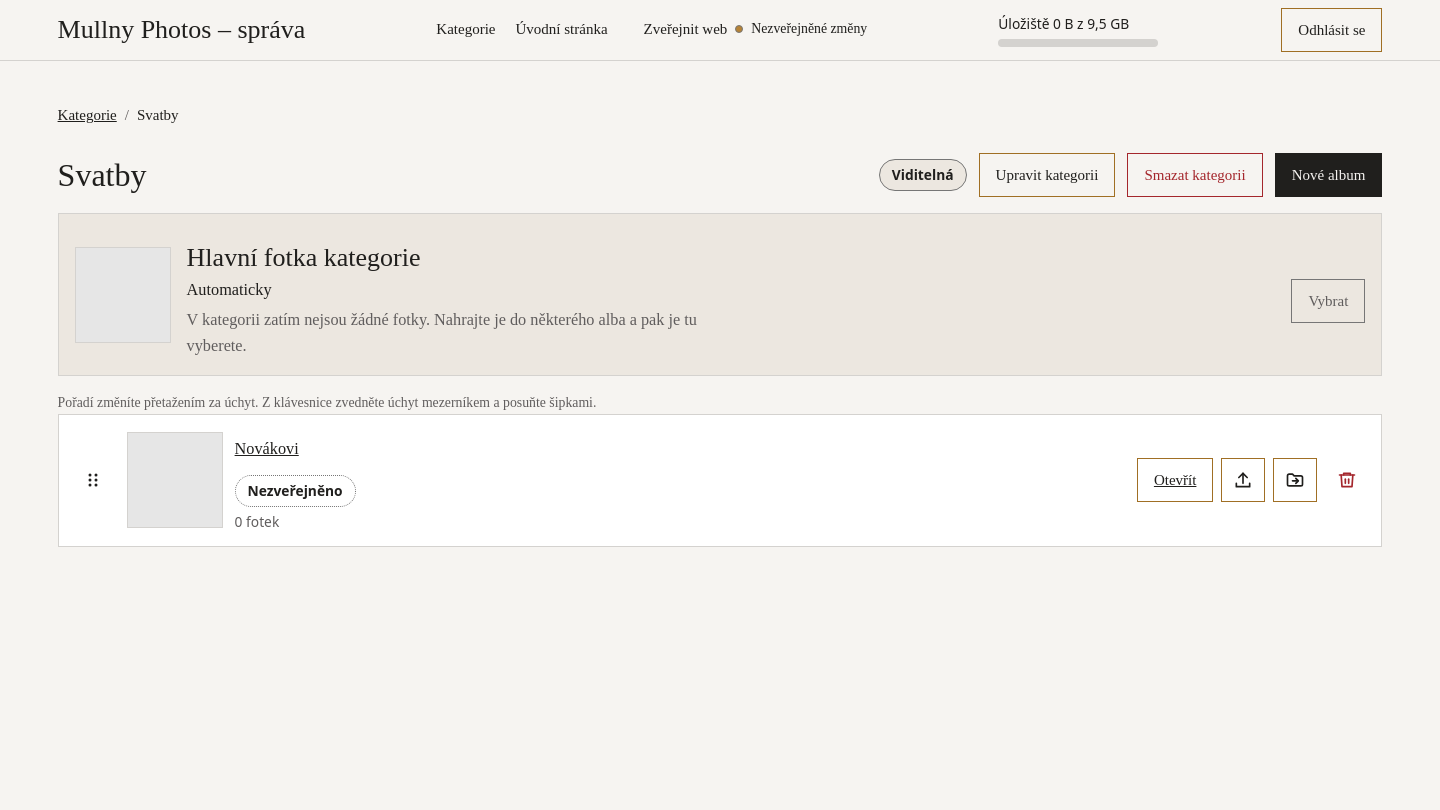
Test: new album › creates an unpublished album at the end and opens it as "Nezveřejněno" with the drop zone
Expected: the heading "Svatby" is shown, x1=58 y1=156 x2=146 y2=194
Expected: the link "Novákovi" is shown, x1=235 y1=439 x2=299 y2=458
Click the button "Nové album" at (1329, 175), box x1=1275 y1=153 x2=1382 y2=197
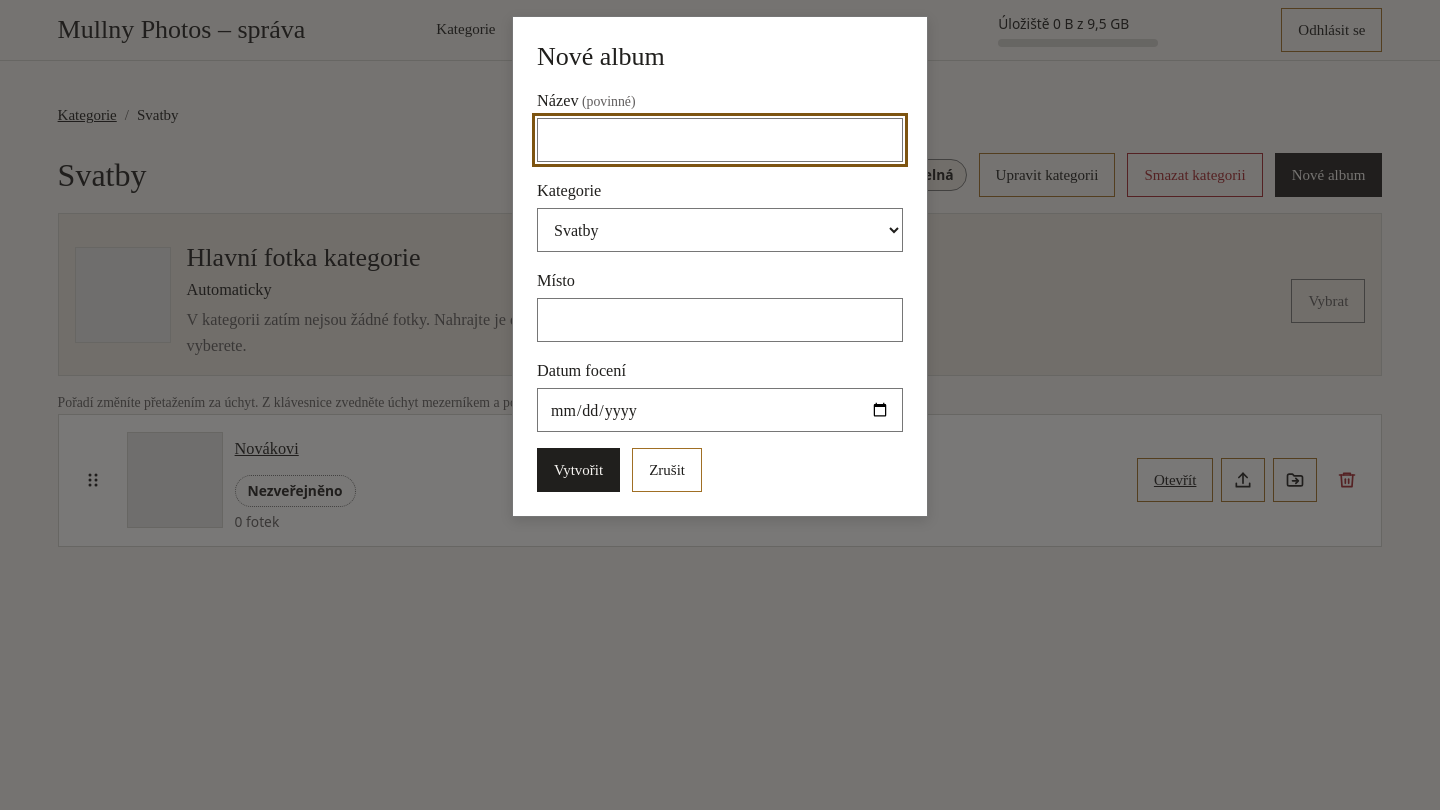
Now the dropdown labelled "Kategorie" shows "Svatby", box x1=537 y1=208 x2=903 y2=252
Type "Čermákovi a spol." into the field labelled "Název (povinné)" at (720, 140), box x1=537 y1=118 x2=903 y2=162
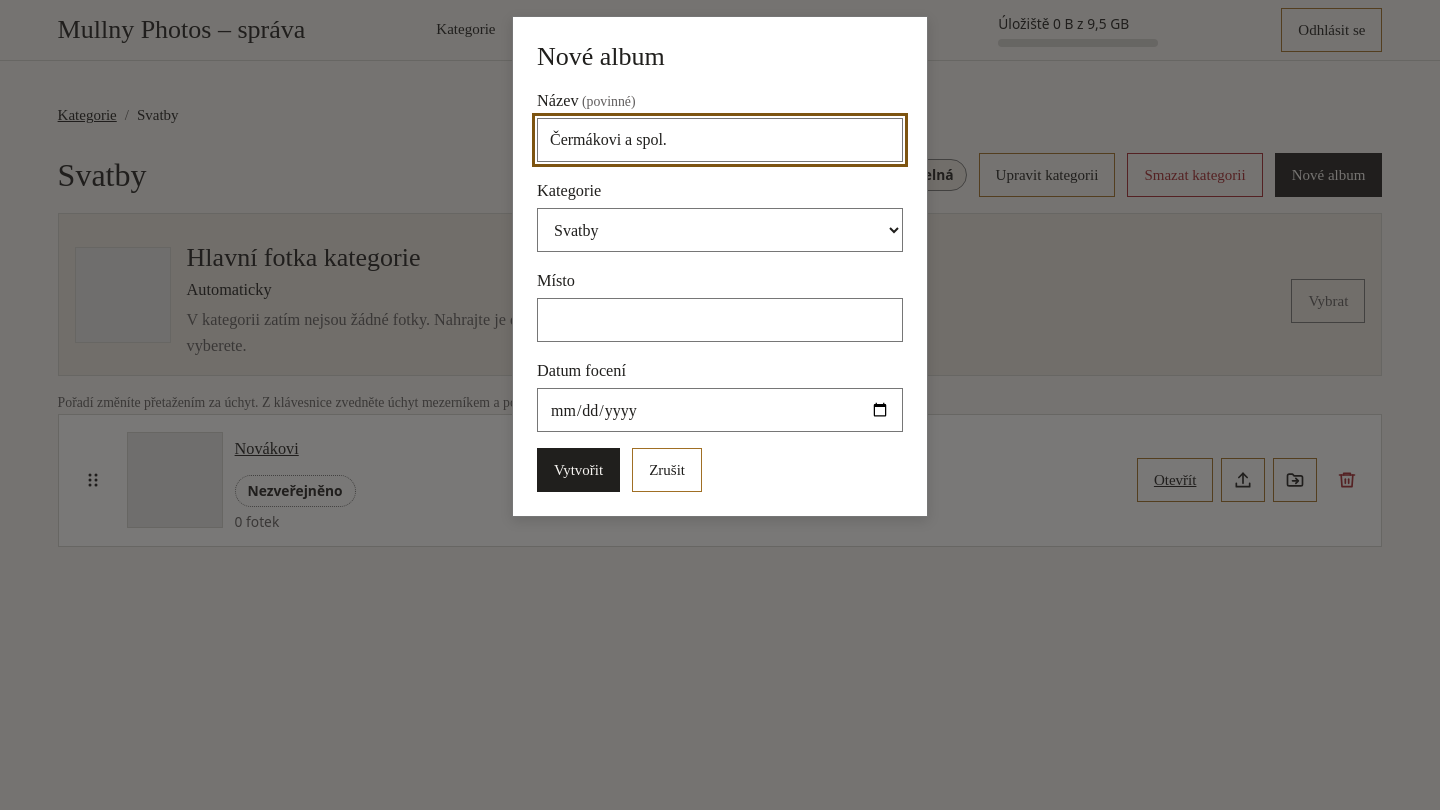
Type "Znojmo" into the field labelled "Místo" at (720, 320), box x1=537 y1=298 x2=903 y2=342
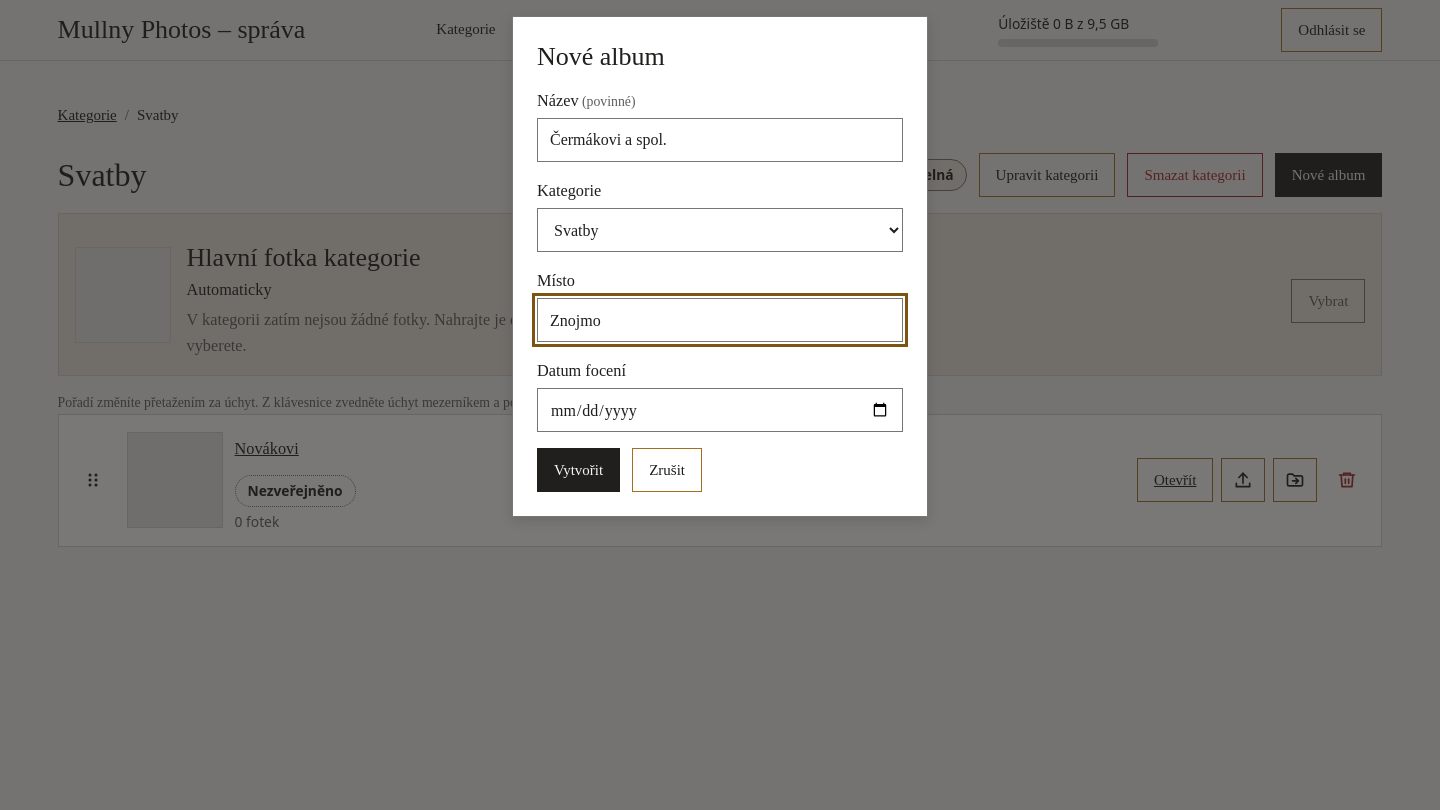
Type "2026-07-11" into the date field labelled "Datum focení" at (720, 410), box x1=537 y1=388 x2=903 y2=432
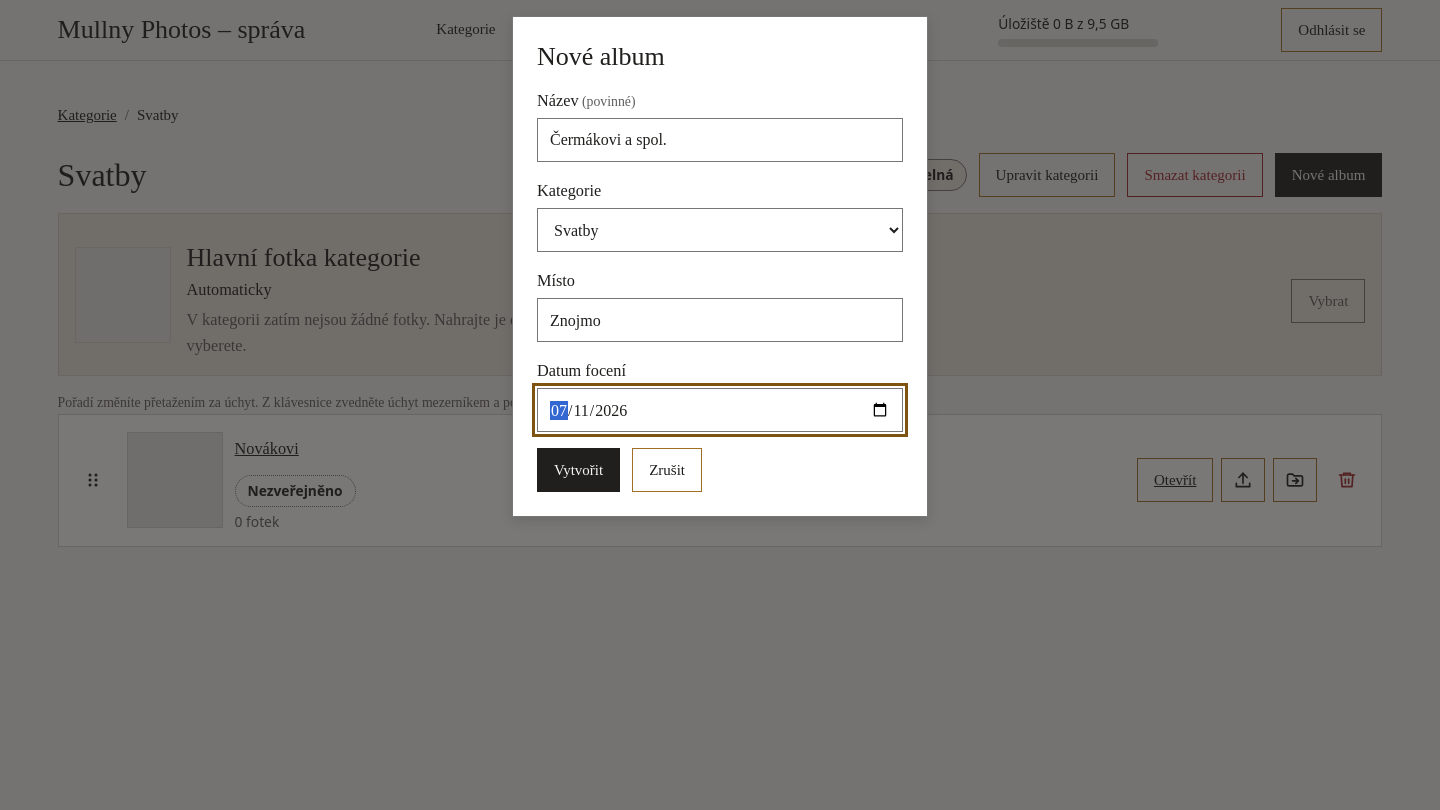
Click the button "Vytvořit" at (579, 470), box x1=537 y1=448 x2=620 y2=492
(page scrolled)
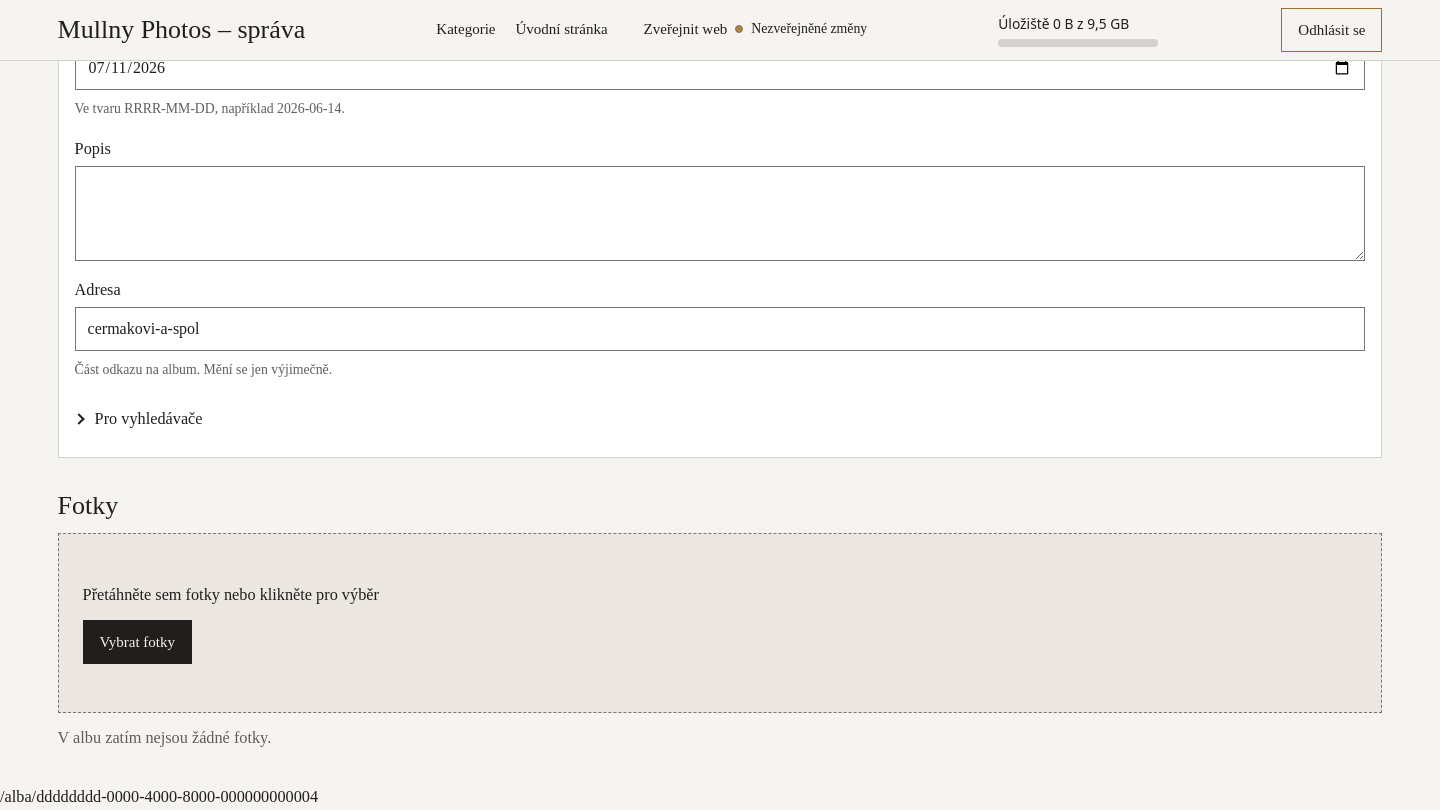
Now the file field "Přetáhněte sem fotky nebo klikněte pro výběr" is shown, box x1=83 y1=582 x2=379 y2=608
